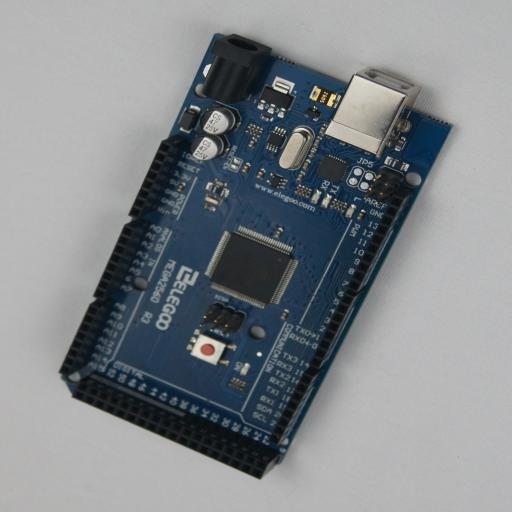Arduino Mega 2560 -Blue-: (59, 33, 453, 479)
